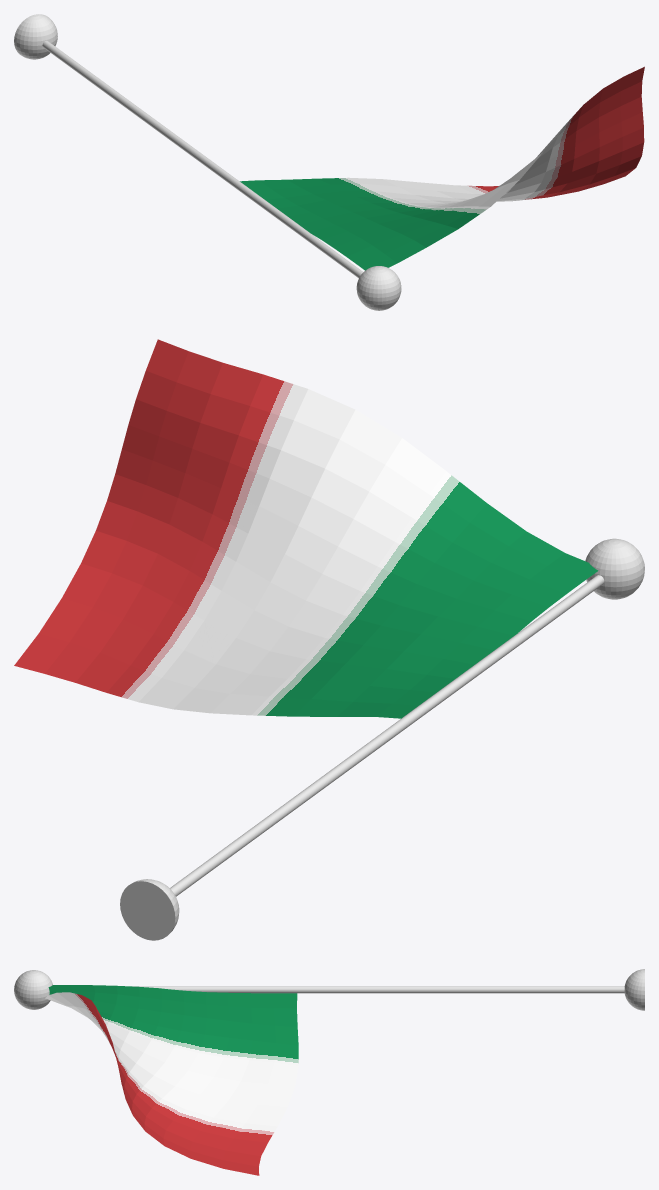
Rendered from italy.glb.
3 views of the same model, one above another, from view 1: azimuth 30°, elevation 25°; view 2: azimuth 150°, elevation 25°; view 3: azimuth 270°, elevation 25° (orthographic). The views are drawn at different scales.
Parts seen in each view (by area): view 1: Plane.011, Cylinder.012, Sphere.033, Sphere.032; view 2: Plane.011, Cylinder.012, Sphere.032, Sphere.033; view 3: Plane.011, Cylinder.012, Sphere.033, Sphere.032.
Boxes of the visible parts, bbox=[...] form: Plane.011: bbox=[240, 66, 644, 270]; Cylinder.012: bbox=[42, 40, 363, 278]; Sphere.033: bbox=[356, 266, 401, 310]; Sphere.032: bbox=[14, 14, 57, 59]; Plane.011: bbox=[14, 339, 598, 718]; Cylinder.012: bbox=[170, 575, 604, 896]; Sphere.032: bbox=[120, 879, 179, 940]; Sphere.033: bbox=[585, 538, 644, 599]; Plane.011: bbox=[45, 985, 298, 1175]; Cylinder.012: bbox=[132, 986, 624, 993]; Sphere.033: bbox=[14, 970, 52, 1009]; Sphere.032: bbox=[624, 969, 644, 1010].
Size of what is drawn, in the model's own units: 0.8806 by 0.4405 by 1.59.
2 materials, 1 textured.
